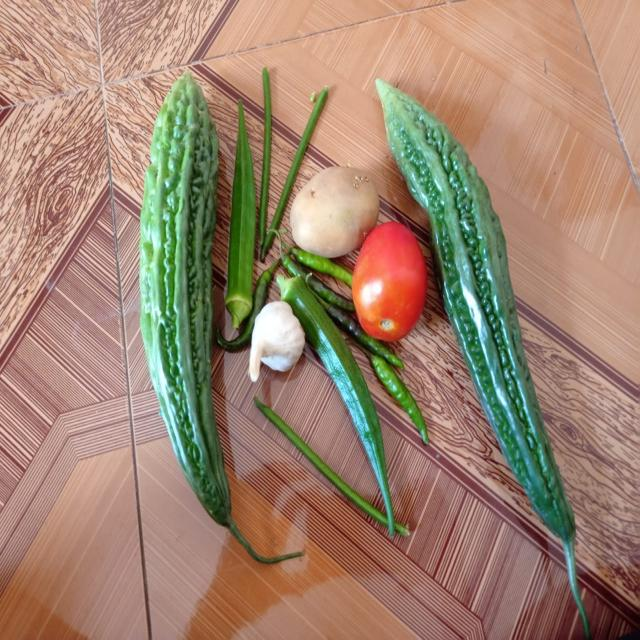Organik: (421, 115, 574, 551), (134, 76, 222, 523), (288, 163, 378, 261), (350, 215, 422, 337), (370, 341, 438, 448), (224, 104, 256, 325), (244, 302, 302, 395)
